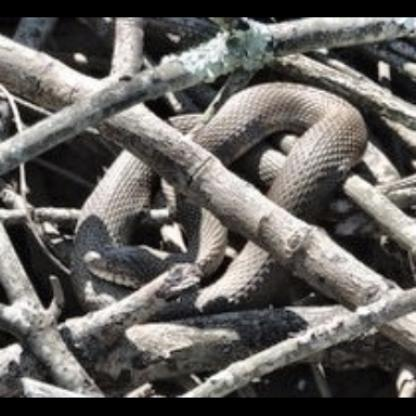Snake: (72, 72, 372, 318)
